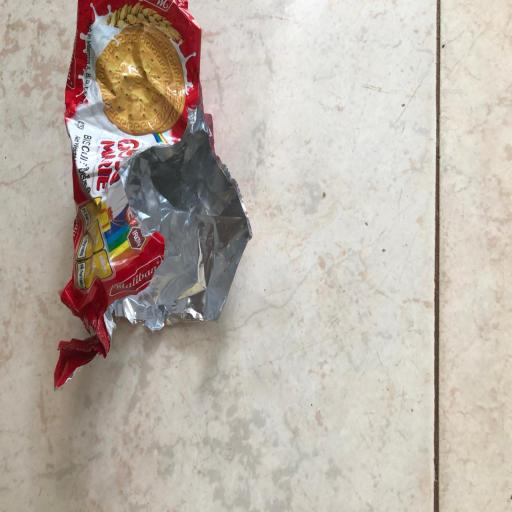waste: (45, 0, 267, 414)
